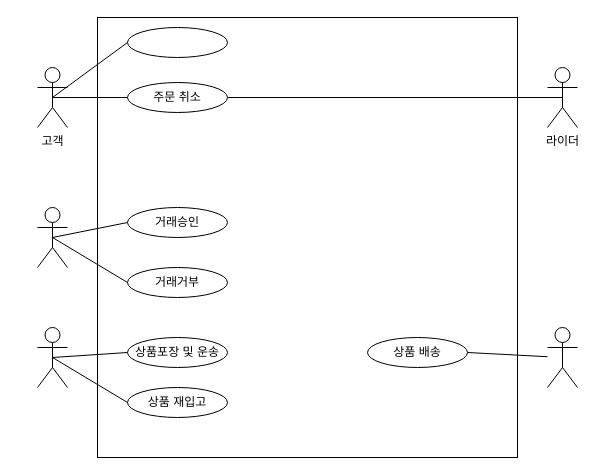
The diagram is 596 pixels wide and 475 high, and some of its shapes have lost their labels. The shapes that lost their labels are listed below. From the top down, each one's box as (x1, y1, x2, y2) in pixels, then its label:
(126, 26, 228, 58): 책 주문
(36, 206, 68, 268): 신용카드 회사
(36, 326, 68, 388): 창고 직원
(546, 326, 578, 388): 배달원
